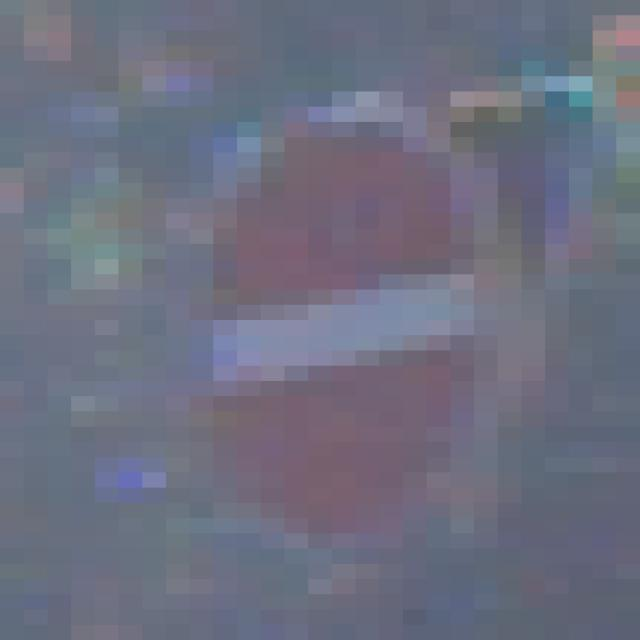No Entry: (143, 77, 523, 565)
